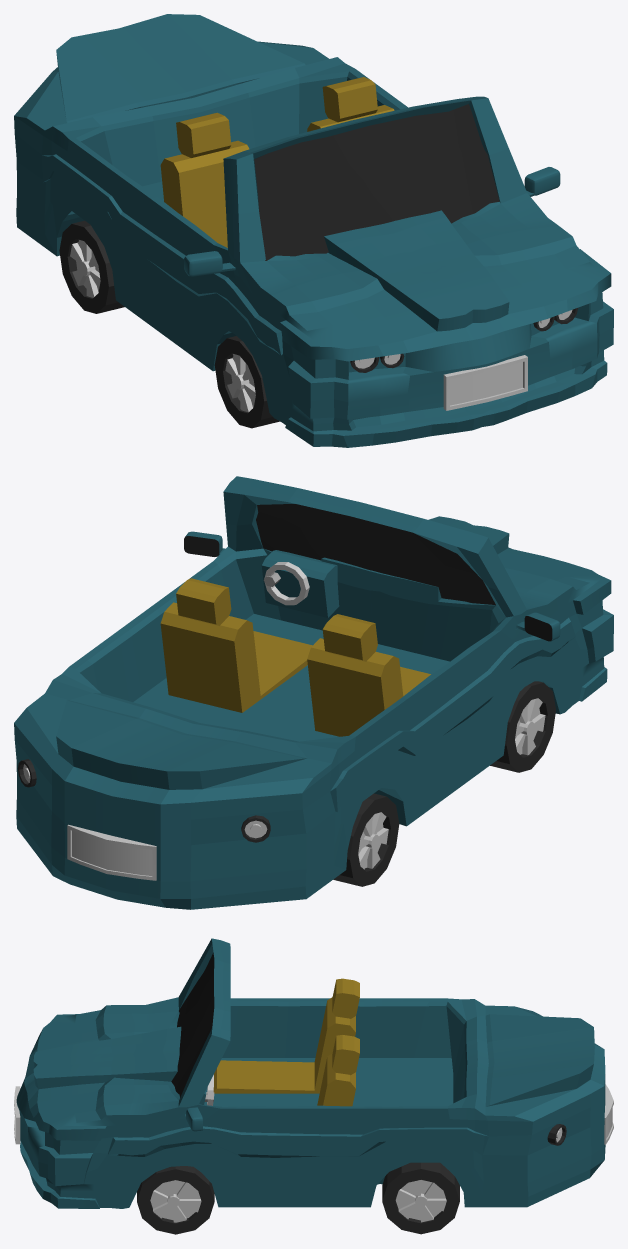
The model's file is car_2.fbx.
The picture shows the model from 3 angles, top to bottom: view 1: azimuth 30°, elevation 25°; view 2: azimuth 150°, elevation 25°; view 3: azimuth 270°, elevation 25°; orthographic projection. The views are drawn at different scales.
Parts seen in each view (by area): view 1: car_base, pPlane4, pPipe5 (×2), chair, chair1, front_plate, pCylinder12 (×2), mirror; view 2: car_base, chair, pPlane4, pPipe5 (×2), chair1, back_plate, chair2, chair3, pCylinder12 (×2), mirror, lamp_big1, pPipe6; view 3: car_base, pPipe5 (×2), chair3, pCylinder12 (×2), pPlane4, chair, chair1, back_plate.
Boxes of the visible parts, <box> form: car_base: <box>14,14,613,447</box>; pPlane4: <box>254,104,499,260</box>; pPipe5 (×2): <box>59,220,279,428</box>; chair: <box>160,105,394,247</box>; chair1: <box>176,77,377,157</box>; front_plate: <box>443,355,527,410</box>; pCylinder12 (×2): <box>70,240,255,412</box>; mirror: <box>184,167,560,276</box>; car_base: <box>14,476,613,909</box>; chair: <box>160,602,403,736</box>; pPlane4: <box>256,504,495,605</box>; pPipe5 (×2): <box>333,681,555,886</box>; chair1: <box>176,578,377,661</box>; back_plate: <box>67,824,156,880</box>; chair2: <box>261,550,339,617</box>; chair3: <box>253,631,430,699</box>; pCylinder12 (×2): <box>358,698,545,869</box>; mirror: <box>184,531,560,641</box>; lamp_big1: <box>17,759,270,842</box>; pPipe6: <box>264,562,309,605</box>; car_base: <box>16,938,605,1208</box>; pPipe5 (×2): <box>137,1162,459,1234</box>; chair3: <box>213,1060,314,1093</box>; pCylinder12 (×2): <box>150,1180,446,1222</box>; pPlane4: <box>171,952,214,1097</box>; chair: <box>314,997,355,1106</box>; chair1: <box>332,978,359,1075</box>; back_plate: <box>604,1084,613,1144</box>.
Bounding box in the file's own units: 161 × 103 × 287.
